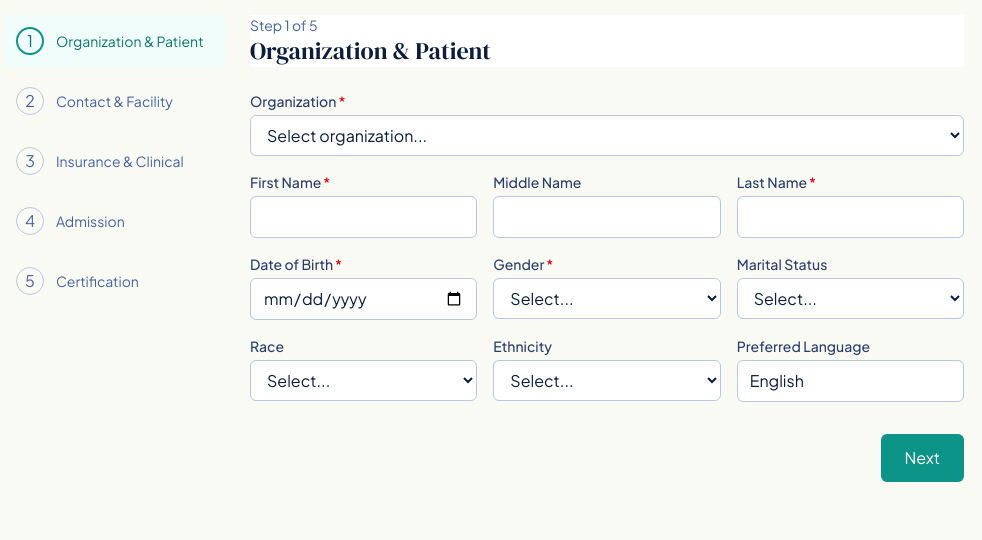
Test: IntakeWizard › refuses to advance from step 1 when required fields are empty
Check: the field labelled "First Name*" is shown, box [250,196,477,238]
Click the button "Next".
click(922, 458)  # box [880,434,964,482]
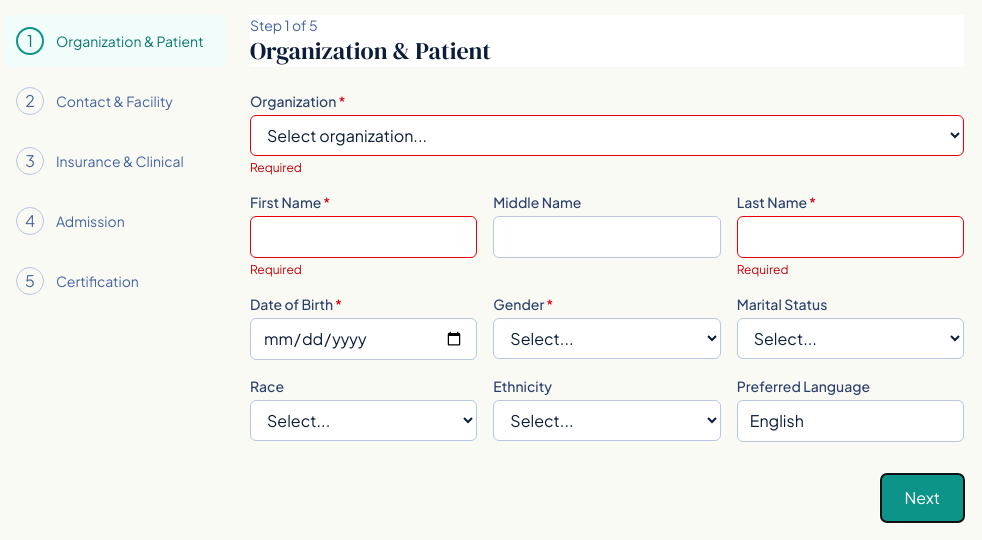
Check: the text "Step 1 of 5" is shown, box [250,16,318,34]
Check: the text "Required" is shown 3 times, box [250,160,302,175]; [250,262,302,277]; [737,262,788,277]
